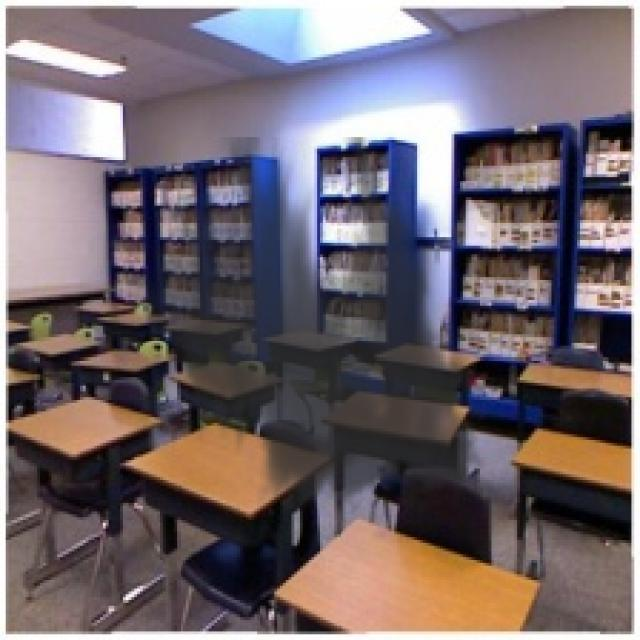Smoke: (132, 137, 494, 526)
